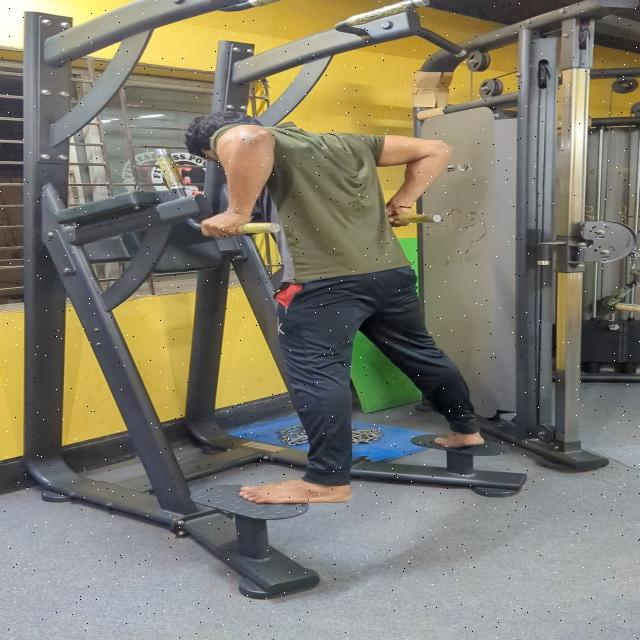Normal_Dips: (0, 3, 602, 557)
